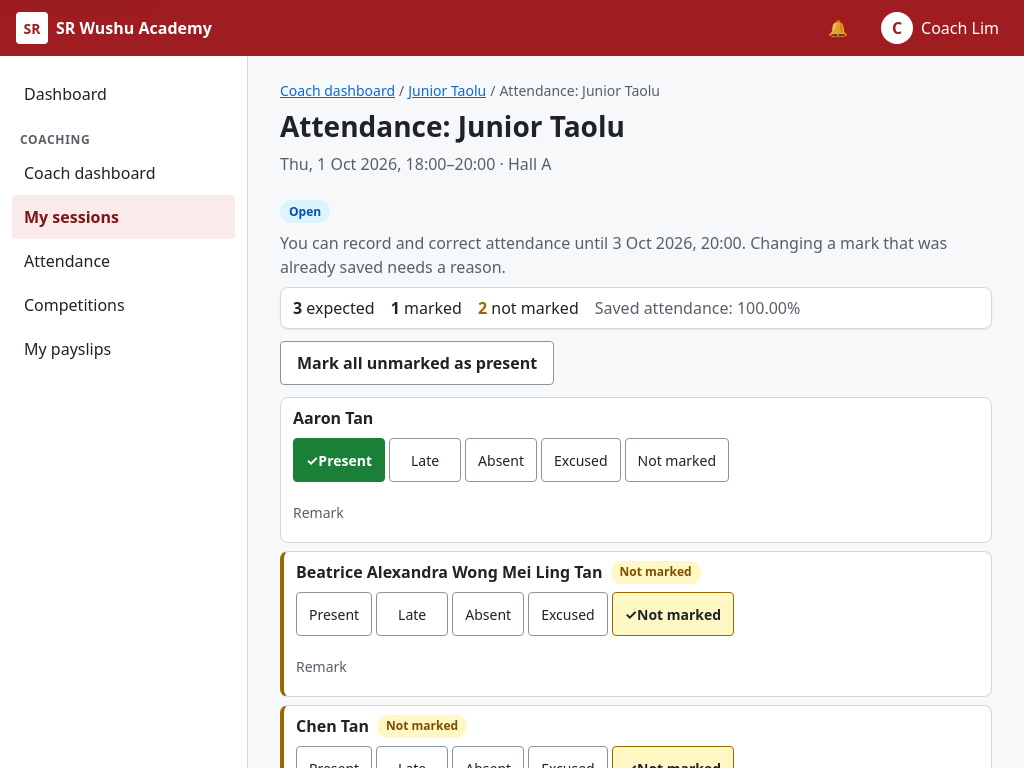
it: taking attendance › saves only changed students without a reason for first marks, then confirms and refreshes
The image size is (1024, 768).
Click the radio button labelled "Late" below "Beatrice Alexandra Wong Mei Ling Tan".
click(412, 614)  # box [376,592,448,636]
(page scrolled)
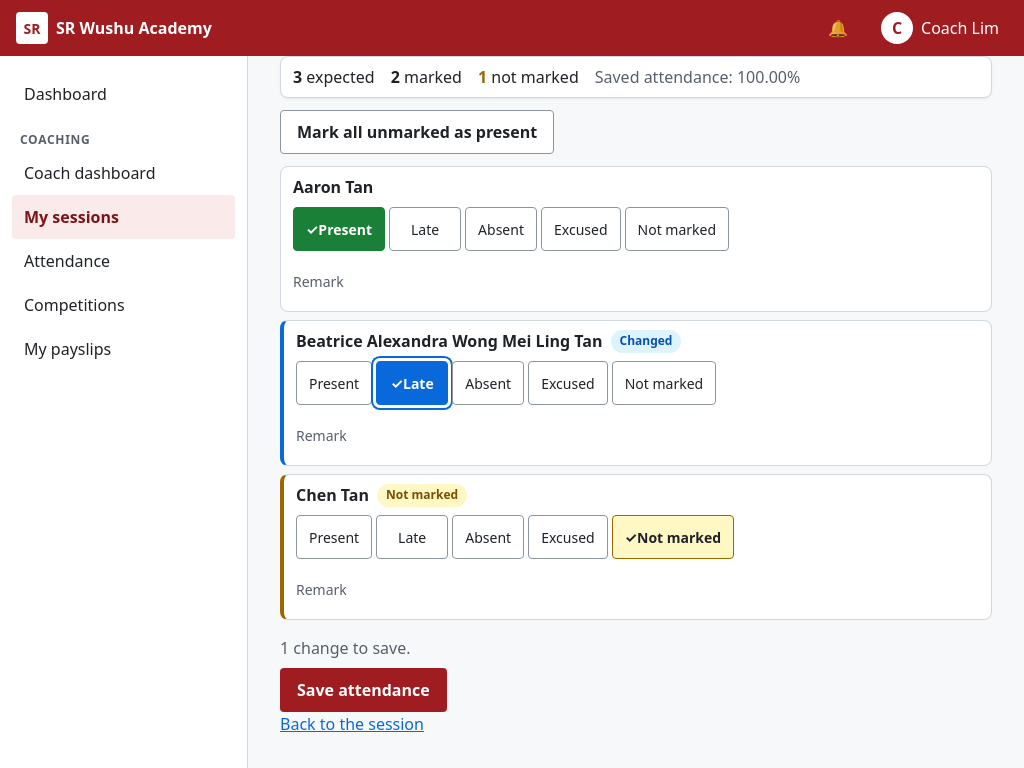
Click the radio button labelled "Absent" below "Chen Tan".
click(488, 537)  # box [452,515,524,559]
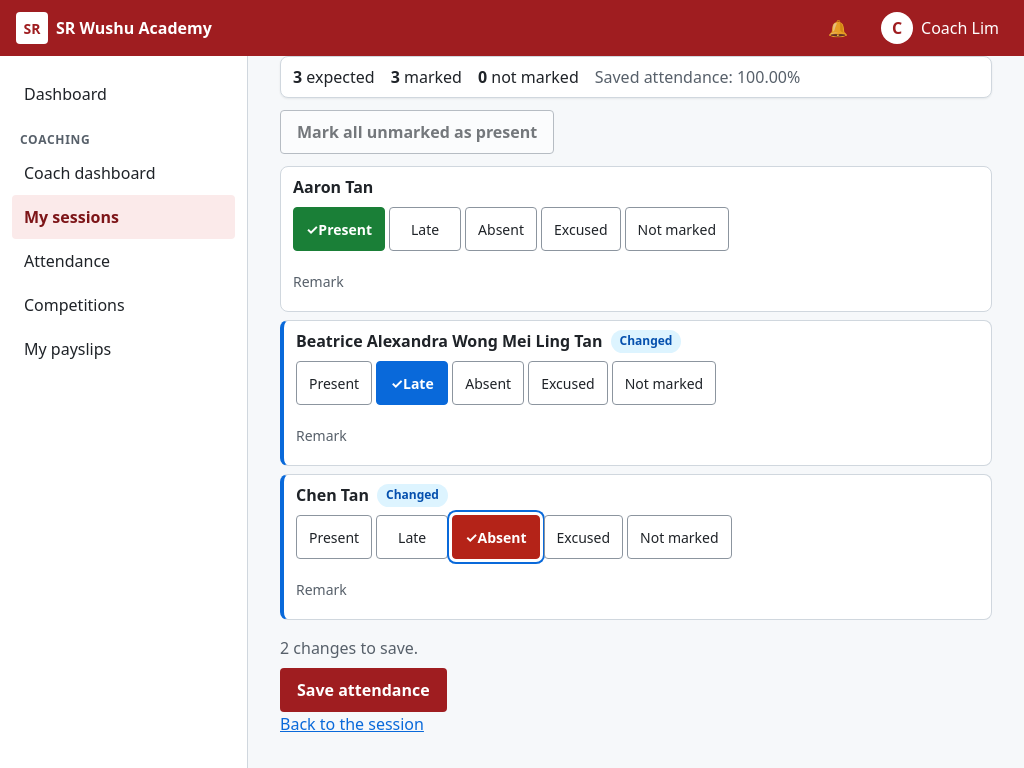
Click the heading "Remark" below "Chen Tan".
click(321, 589)  # box [296,580,347,599]
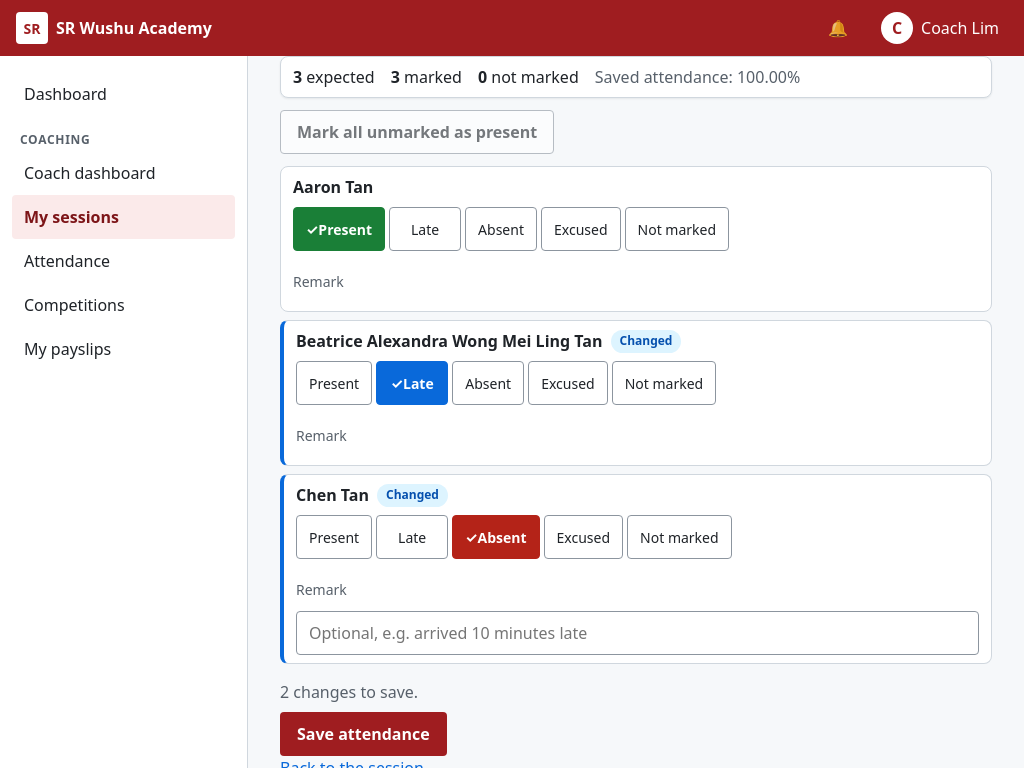
Type "Sick" into the field named "Remark for Chen Tan".
click(638, 633); type("Sick")  # box [296,611,979,655]
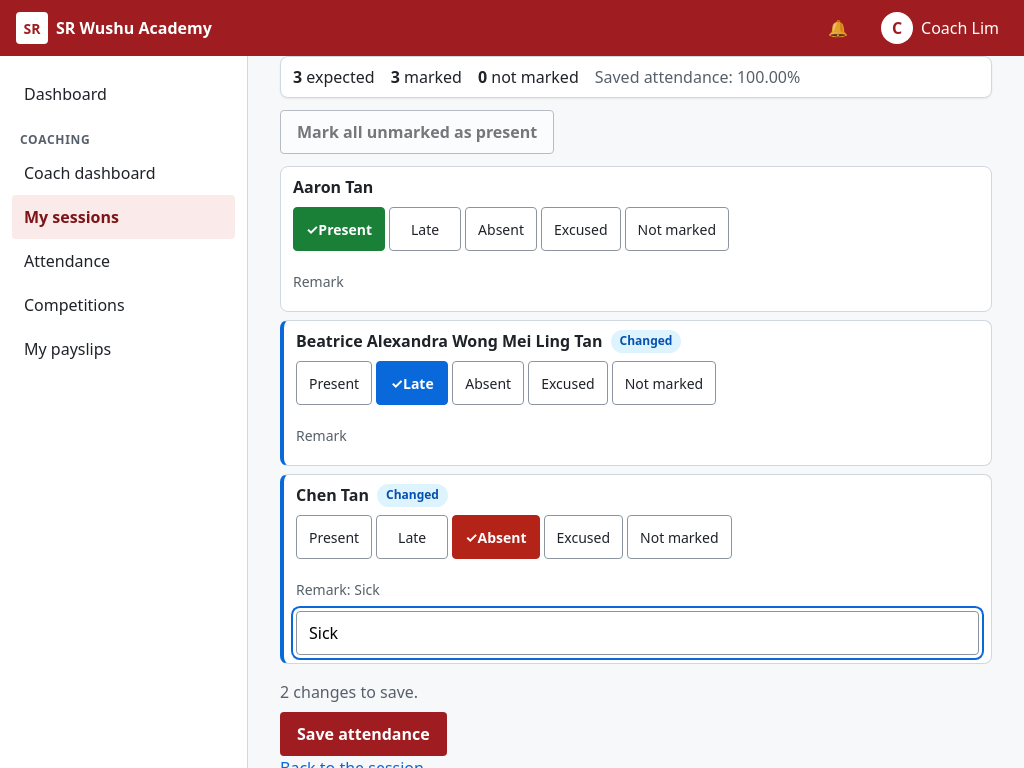
Click the button "Save attendance".
click(363, 734)  # box [280,712,447,756]
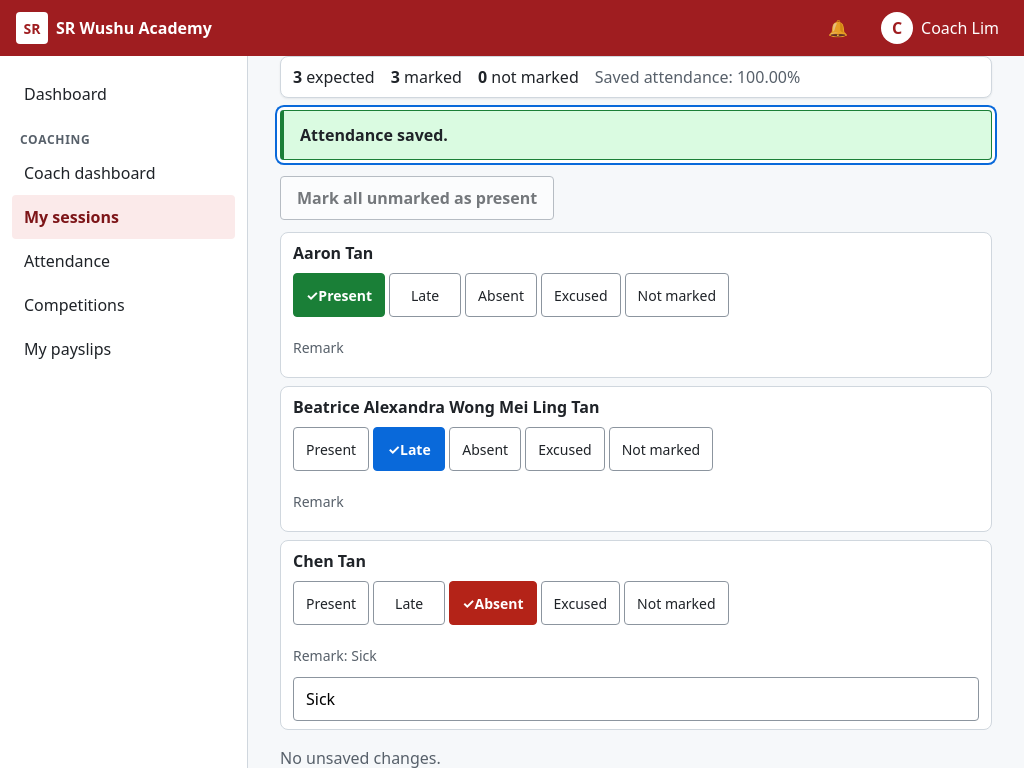
Check: the element named "Attendance counts" shows "0 not marked", box [280,56,992,98]
Check: the text "Attendance saved." is shown, box [280,110,992,160]
